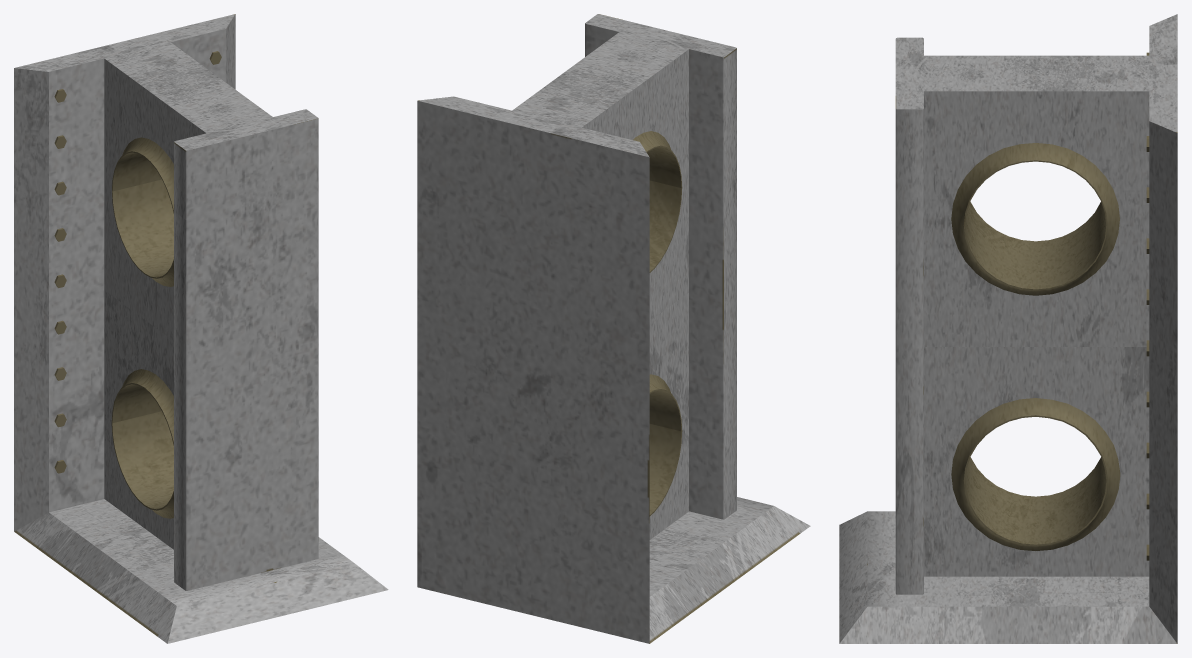
Rendered from FI-040-SupportBeam_Wall_Base.fbx.
The picture shows the model from 3 angles, left to right: view 1: azimuth 30°, elevation 25°; view 2: azimuth 150°, elevation 25°; view 3: azimuth 270°, elevation 25°; orthographic projection. The views are drawn at different scales.
Visible parts, largest first — view 1: FI-040-SupportBeam_Wall_Base; view 2: FI-040-SupportBeam_Wall_Base; view 3: FI-040-SupportBeam_Wall_Base.
Boxes of the visible parts, bbox=[...] form: FI-040-SupportBeam_Wall_Base: bbox=[14, 14, 388, 643]; FI-040-SupportBeam_Wall_Base: bbox=[417, 14, 810, 643]; FI-040-SupportBeam_Wall_Base: bbox=[839, 14, 1177, 643].
Bounding box in the file's own units: 100 × 120 × 200.
